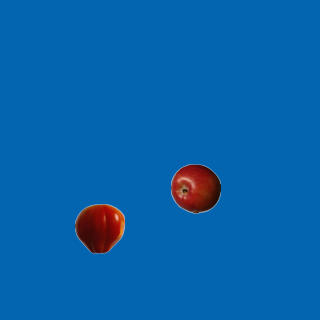Apple Braeburn: (170, 163, 220, 213)
Tomato 1: (74, 203, 124, 253)
